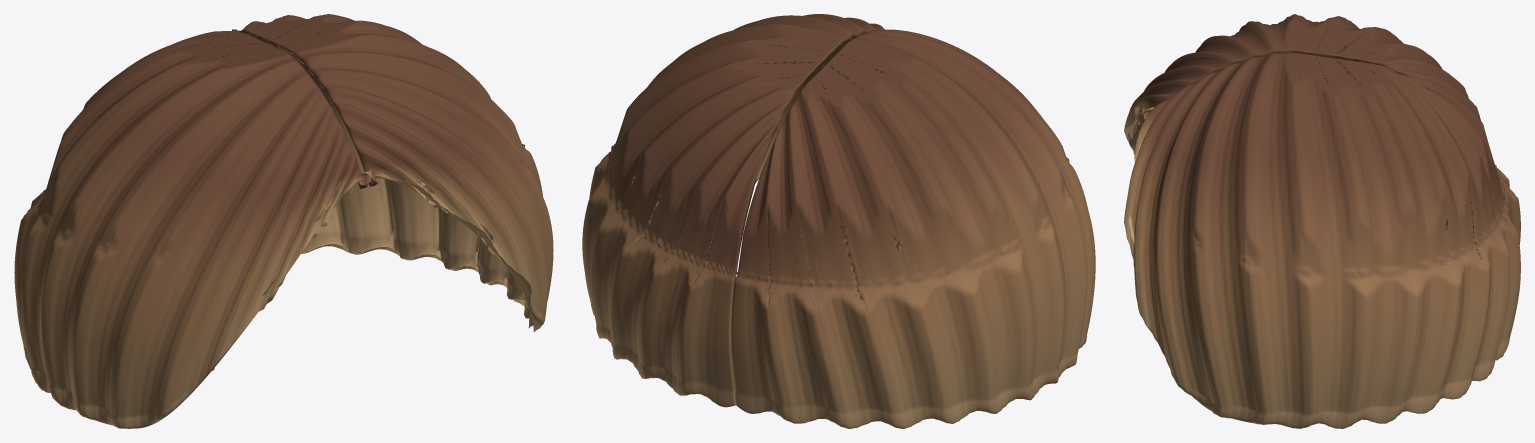
Rendered from Ombre-22ff1a42438c253-hair.glb.
3 renders of one model, left to right at view 1: azimuth 30°, elevation 25°; view 2: azimuth 150°, elevation 25°; view 3: azimuth 270°, elevation 25°, orthographic. The views are drawn at different scales.
Parts seen in each view (by area): view 1: 226 hair / Hair252 / flowing sculpt middle.001; view 2: 226 hair / Hair252 / flowing sculpt middle.001; view 3: 226 hair / Hair252 / flowing sculpt middle.001.
Boxes of the visible parts, left/top/right/bottom form: 226 hair / Hair252 / flowing sculpt middle.001: left=14, top=14, right=553, bottom=428; 226 hair / Hair252 / flowing sculpt middle.001: left=582, top=14, right=1095, bottom=428; 226 hair / Hair252 / flowing sculpt middle.001: left=1124, top=14, right=1520, bottom=428.
Bounding box in the file's own units: 1.06 × 0.6518 × 0.8322.
Materials: 1 (1 with a texture image).
